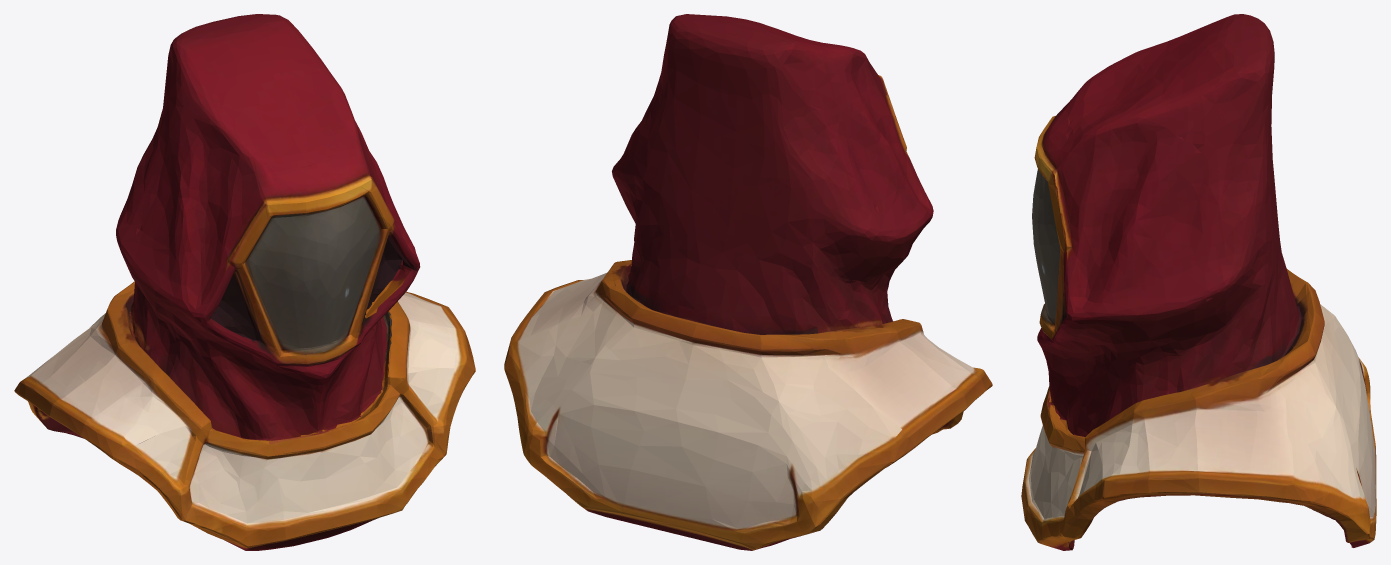
Rendered from dsa_chemist_helm.glb.
3 views of the same model, side by side, from view 1: azimuth 30°, elevation 25°; view 2: azimuth 150°, elevation 25°; view 3: azimuth 270°, elevation 25° (orthographic). The views are drawn at different scales.
Parts seen in each view (by area): view 1: tmpv9fsfd1k.ply; view 2: tmpv9fsfd1k.ply; view 3: tmpv9fsfd1k.ply.
Part boxes in pixels (x1,y1,x2,y2): tmpv9fsfd1k.ply: (14, 14, 475, 550); tmpv9fsfd1k.ply: (504, 14, 992, 550); tmpv9fsfd1k.ply: (1021, 14, 1376, 550).
Bounding box in the file's own units: 1.85 × 2 × 1.32.
Materials: 1 (1 with a texture image).
